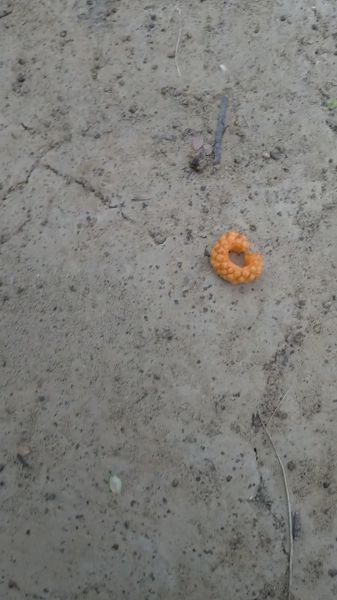eggs: (208, 225, 269, 292)
